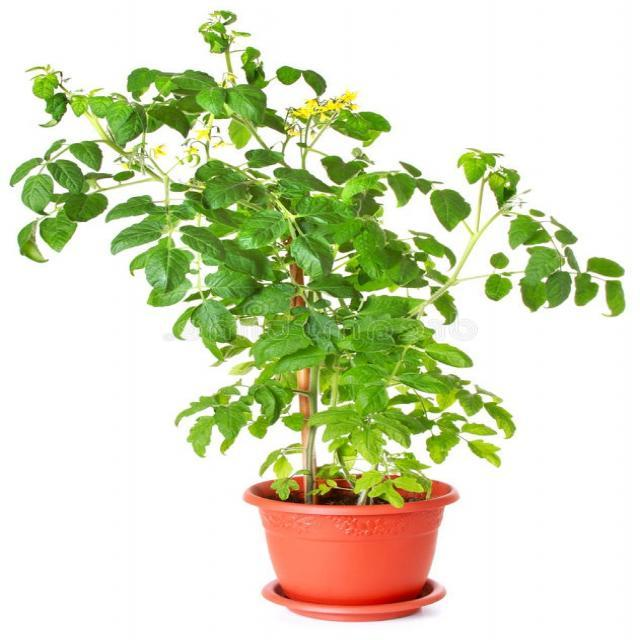tomato: (9, 10, 627, 507)
